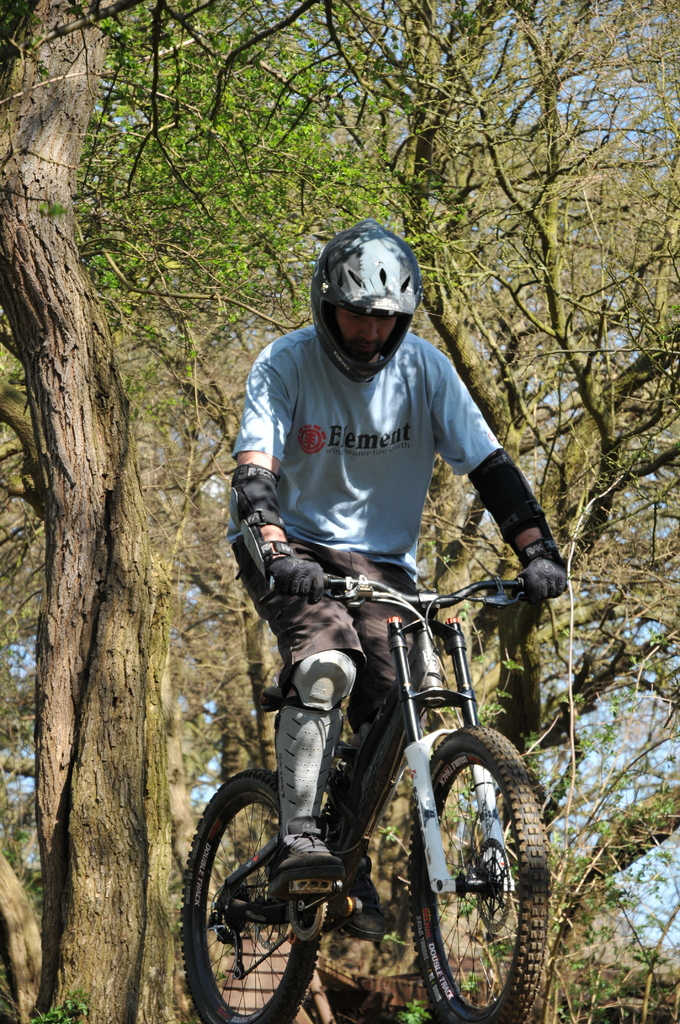Bike: (165, 568, 570, 1018)
